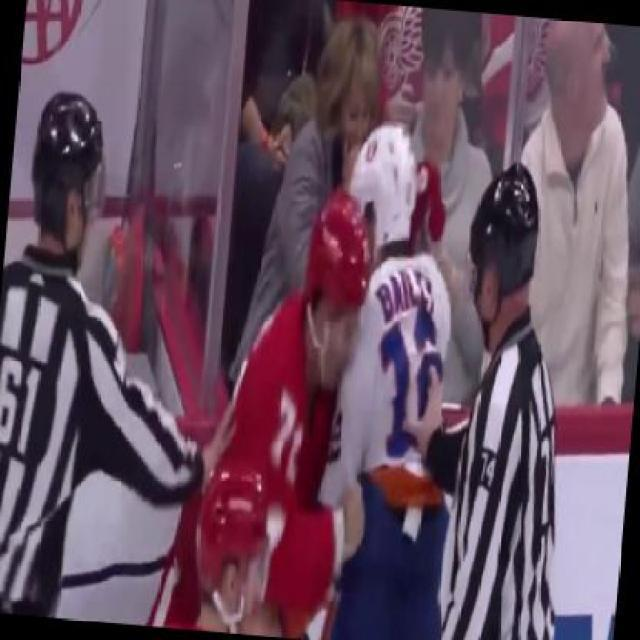fight: (183, 106, 474, 639)
non-fight: (428, 154, 590, 638), (0, 84, 126, 620), (494, 17, 638, 408)
